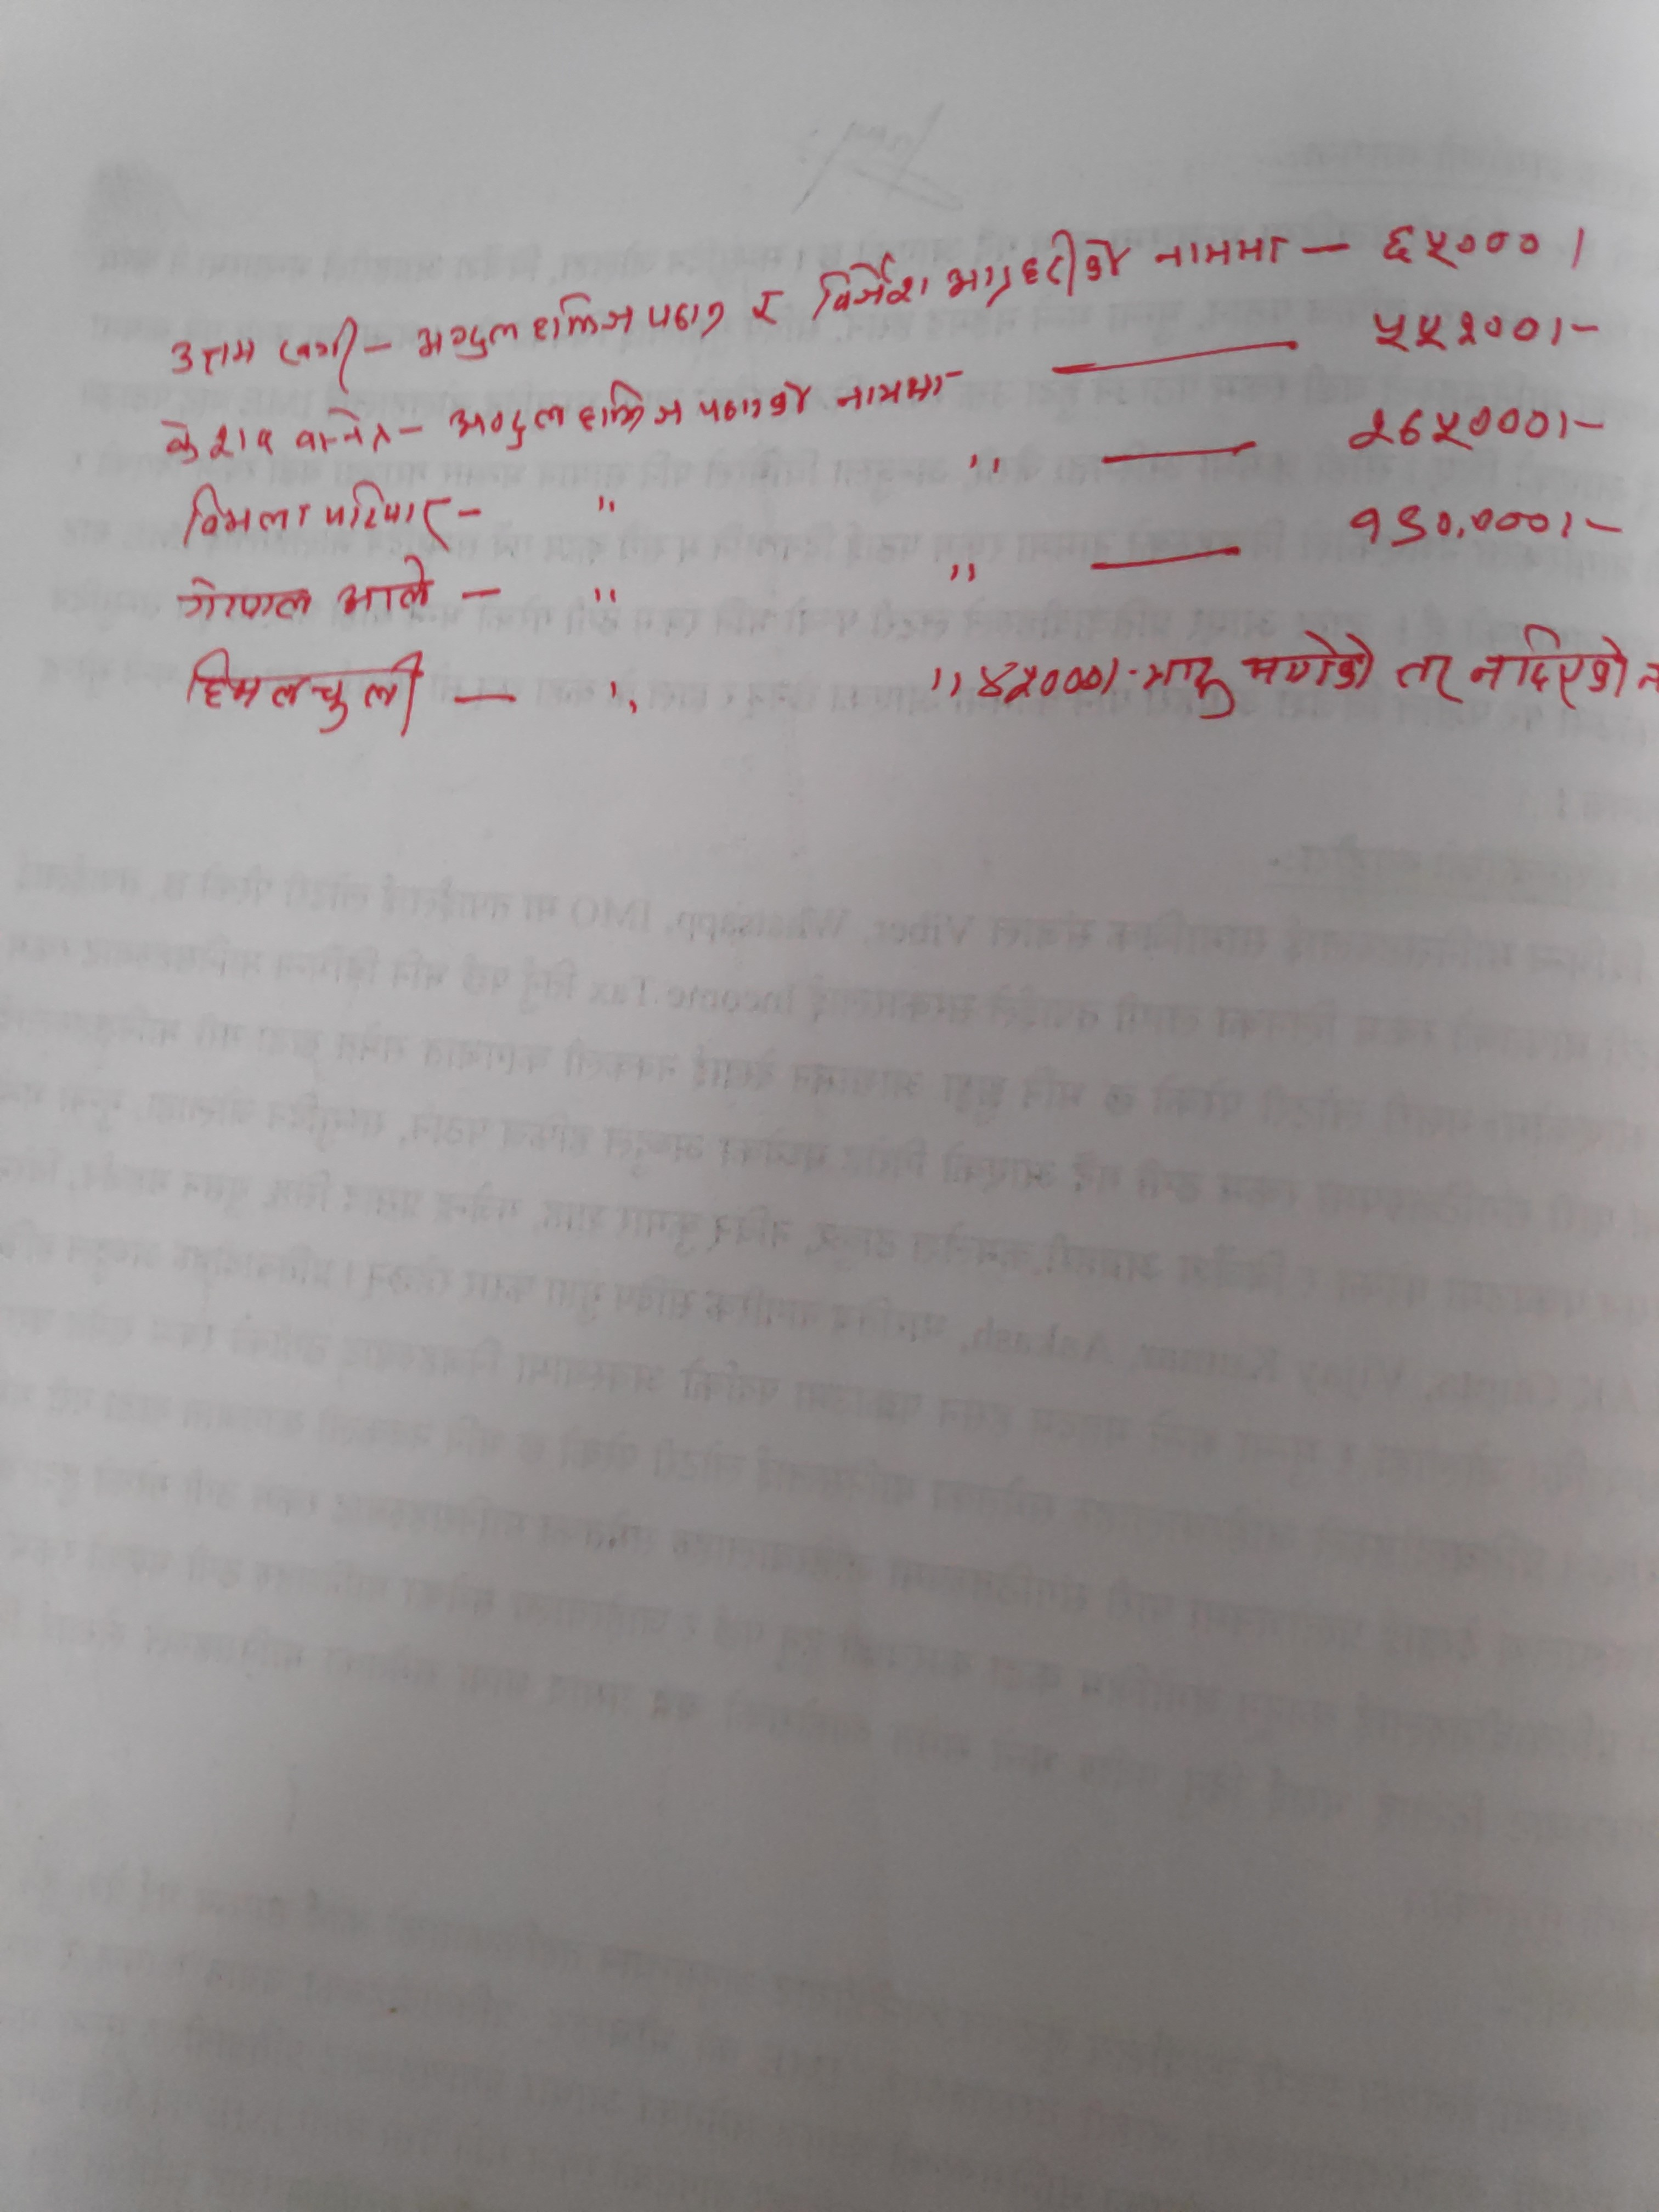text: (183, 637, 429, 740), (411, 291, 730, 361), (1469, 620, 1633, 718), (945, 228, 1131, 312), (441, 381, 687, 444), (1344, 493, 1558, 554), (1344, 395, 1556, 451), (1378, 218, 1544, 275), (1239, 631, 1382, 697), (181, 481, 314, 550), (1364, 303, 1546, 354), (803, 253, 931, 319), (321, 481, 444, 547), (331, 552, 437, 624), (169, 575, 319, 625), (1136, 651, 1237, 725), (152, 409, 279, 465), (277, 312, 366, 390), (972, 653, 1105, 704), (1152, 233, 1293, 279), (828, 369, 965, 415), (291, 402, 399, 456), (699, 378, 814, 428), (166, 329, 260, 380), (1394, 650, 1462, 712), (746, 282, 784, 333)
